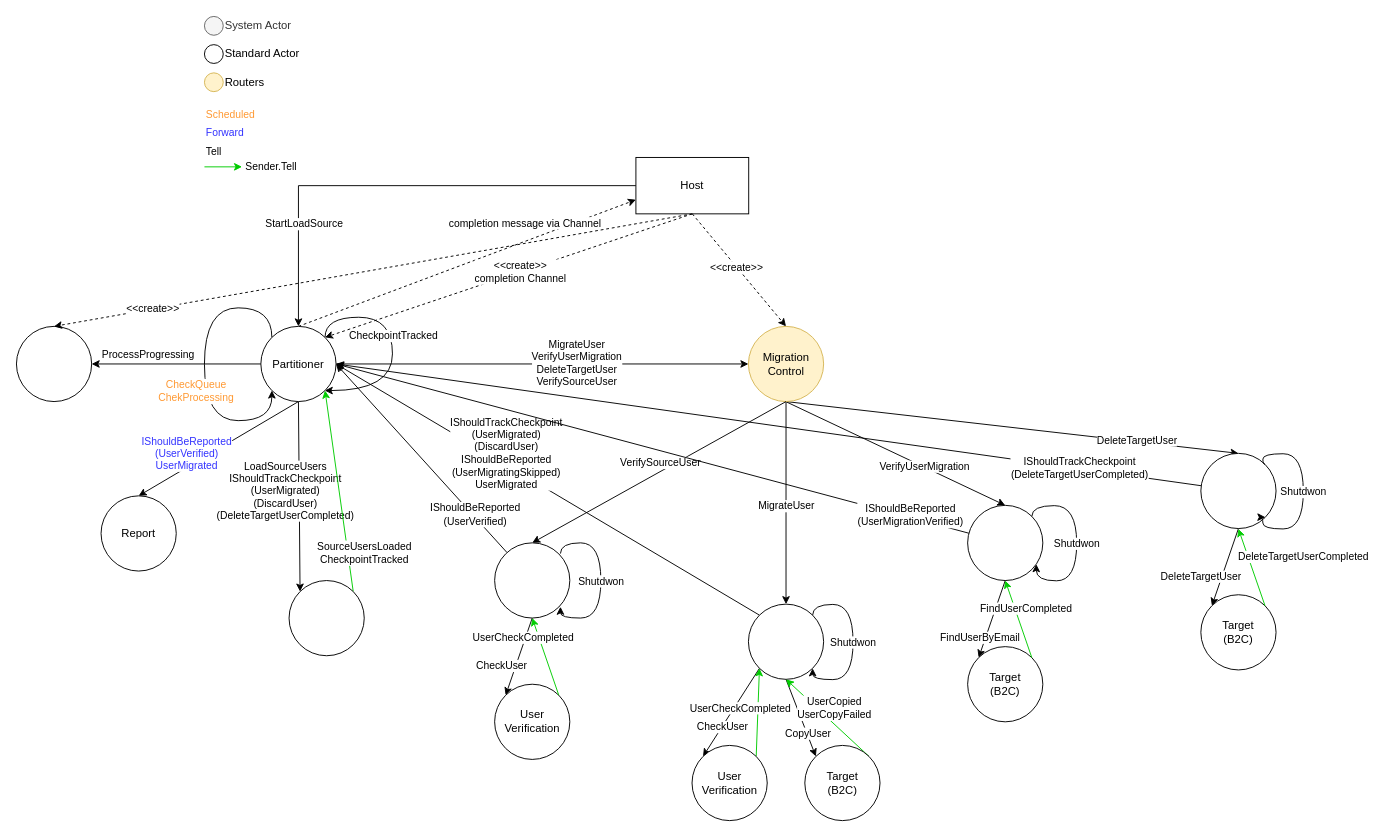
Some shapes in this 1386 by 838 pixel diagram are drawn without their labels. Here are the shapes that lost their labels. From the top down, the box of each, then its label:
(16, 325, 92, 402): Console
(1200, 452, 1276, 529): Target User Killer
(967, 504, 1043, 581): User Migration Verifier
(494, 542, 570, 618): User Verifier
(288, 580, 364, 656): DataSource (SqlServer)
(747, 603, 824, 679): User Migrator
